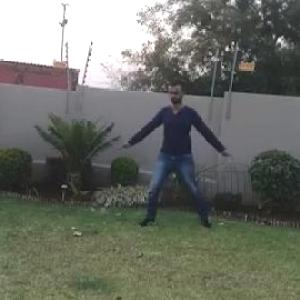land: (126, 84, 235, 226)
